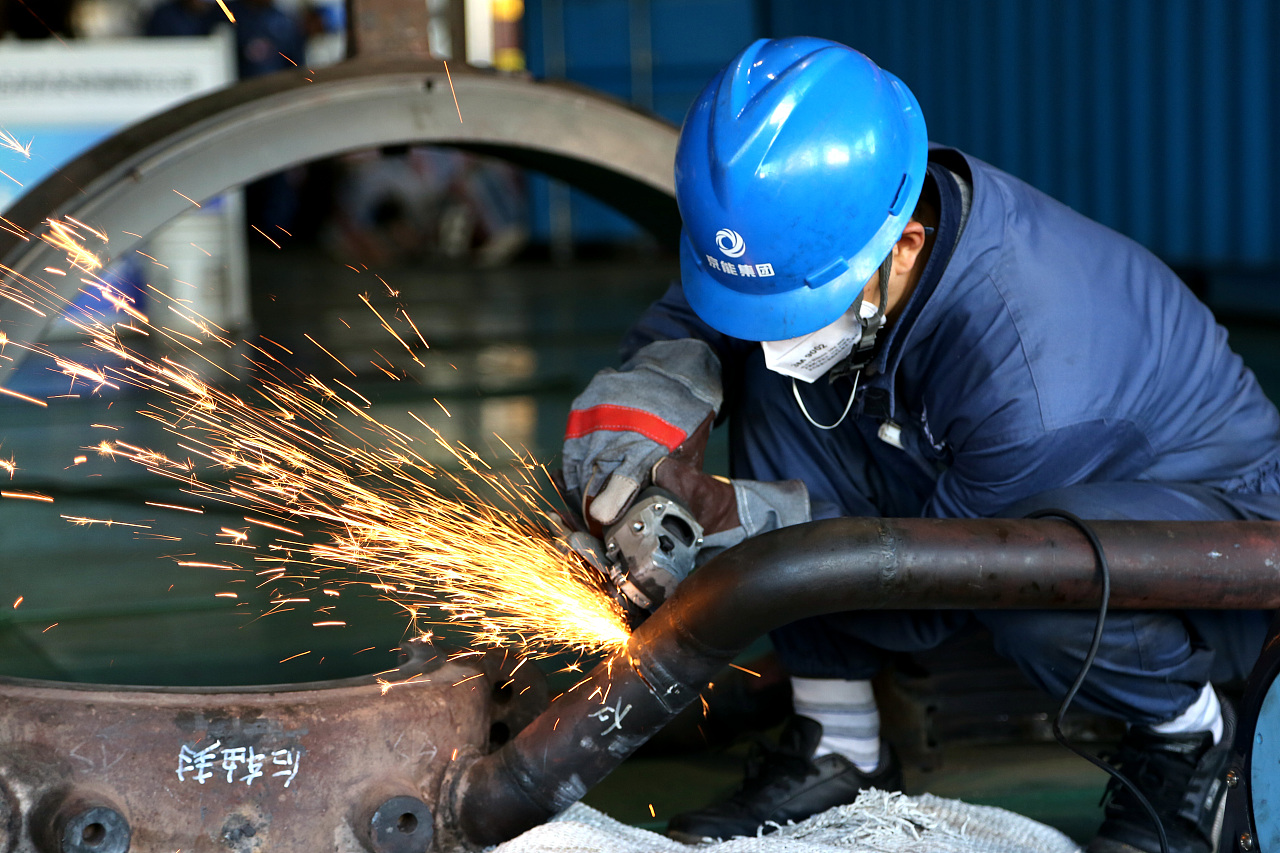safetyhat: (545, 23, 1242, 621)
